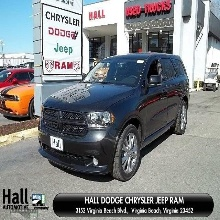no damage: (37, 52, 191, 181), (1, 76, 36, 117)
